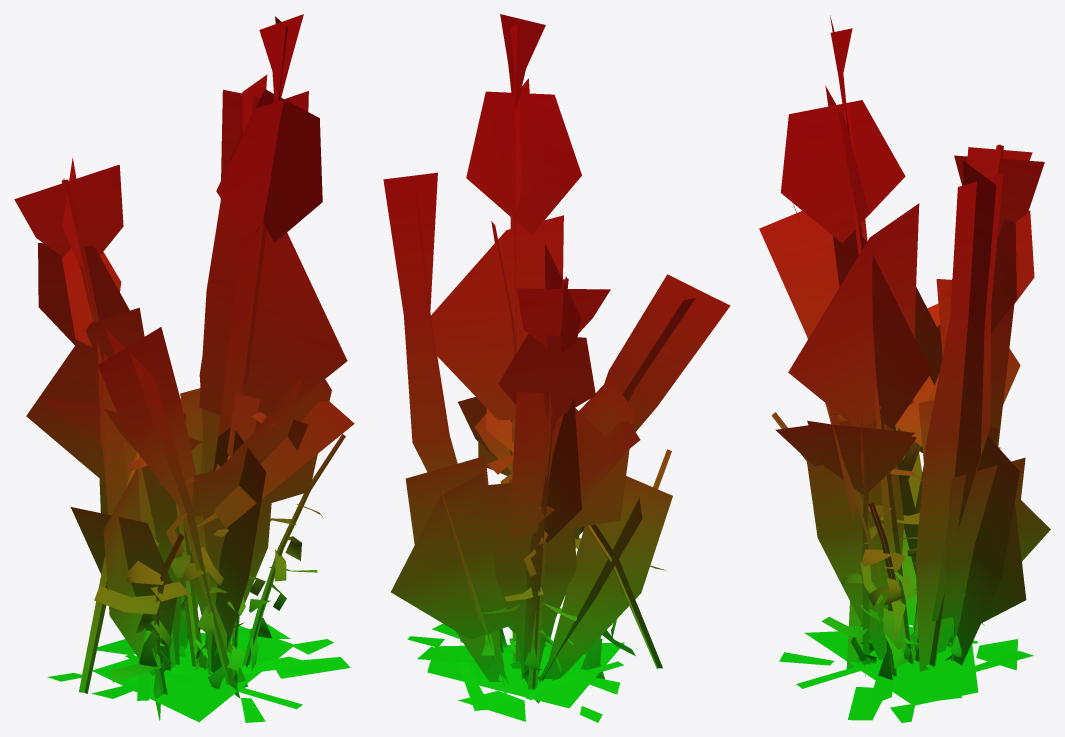
The model's file is Willowherb_LOD2_Var1_tbfpbbhr.fbx.
3 views of the same model, side by side, from view 1: azimuth 30°, elevation 25°; view 2: azimuth 150°, elevation 25°; view 3: azimuth 270°, elevation 25° (orthographic). The views are drawn at different scales.
Visible parts, largest first — view 1: _b254_Var1_LOD2; view 2: _b254_Var1_LOD2; view 3: _b254_Var1_LOD2.
Boxes of the visible parts, left/top/right/bottom form: _b254_Var1_LOD2: left=14, top=14, right=354, bottom=722; _b254_Var1_LOD2: left=383, top=14, right=730, bottom=722; _b254_Var1_LOD2: left=759, top=15, right=1050, bottom=722.
Size of the model in its own units: 12.14 by 28.04 by 10.66.
